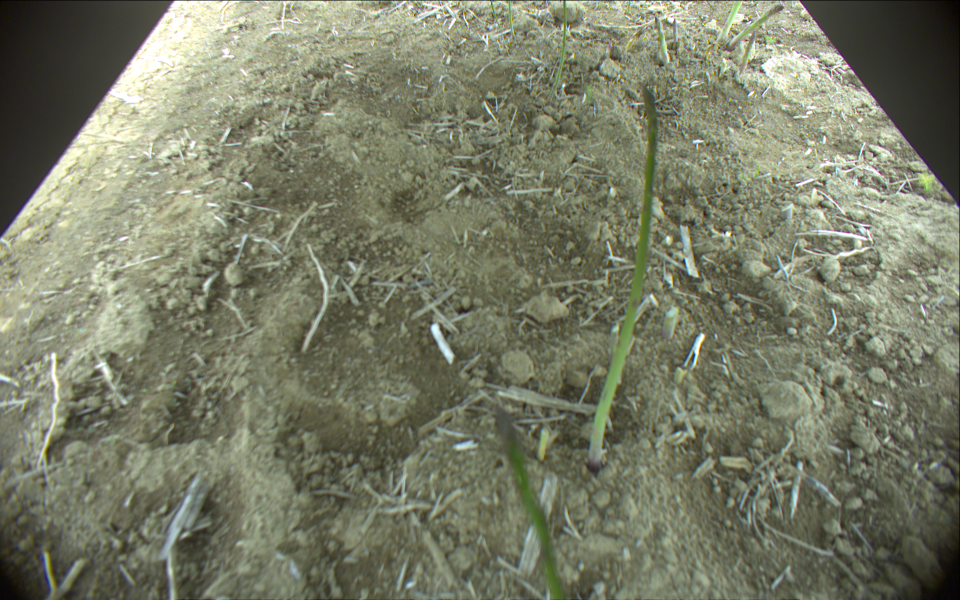aspa: (587, 82, 658, 469), (496, 406, 565, 600), (725, 3, 783, 50), (549, 1, 569, 101), (652, 14, 670, 63), (716, 1, 738, 40), (739, 32, 758, 74), (507, 1, 518, 32), (671, 19, 681, 48), (489, 1, 497, 18)
